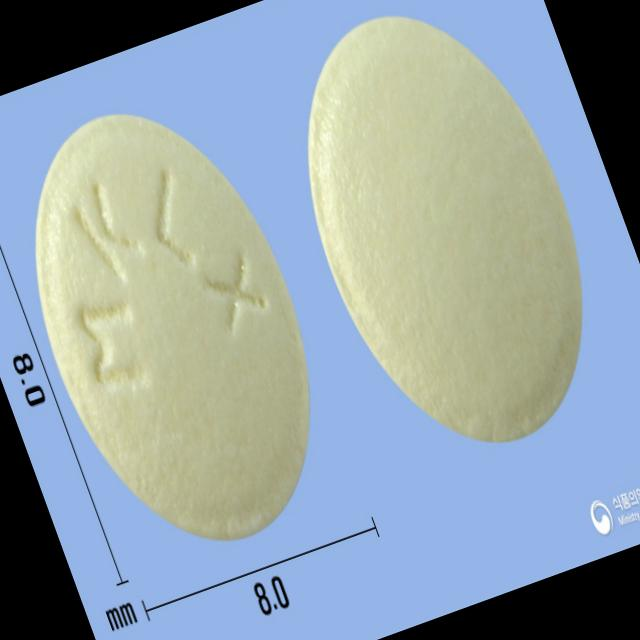Lerocin: (0, 71, 365, 576)
